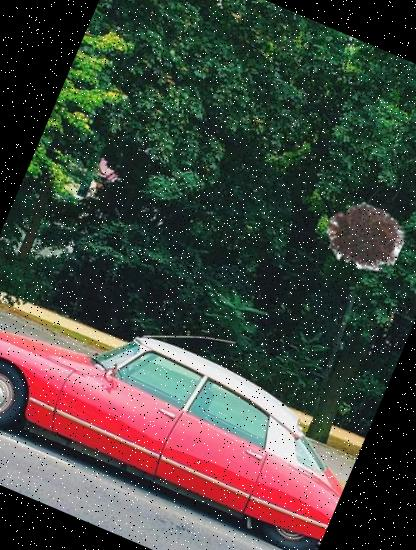Rambutan: (312, 189, 414, 290)
